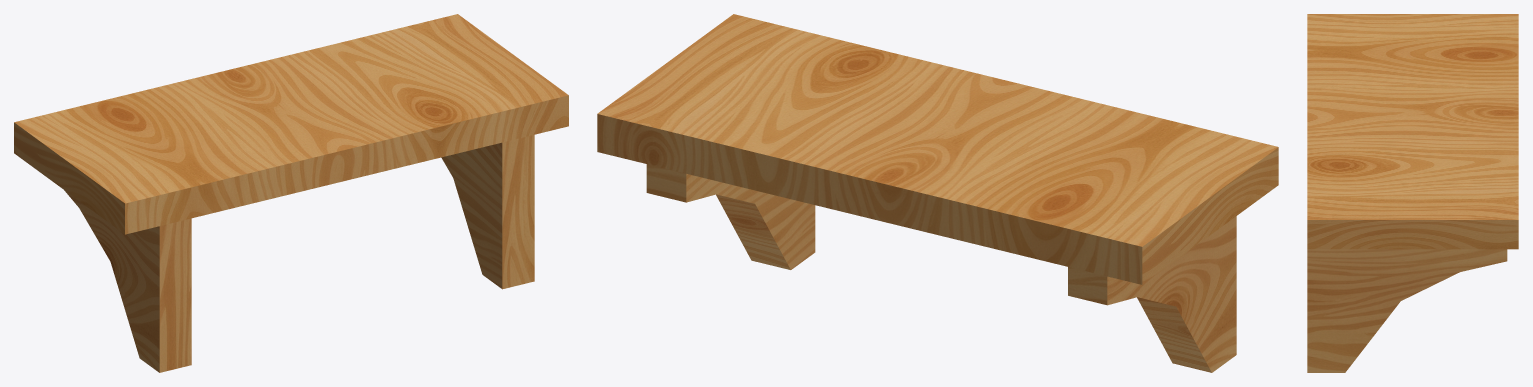
The model's file is Shelf_Hang_2.fbx.
3 renders of one model, left to right at view 1: azimuth 30°, elevation 25°; view 2: azimuth 150°, elevation 25°; view 3: azimuth 270°, elevation 25°, orthographic. The views are drawn at different scales.
Parts seen in each view (by area): view 1: Shelf_Hang_2; view 2: Shelf_Hang_2; view 3: Shelf_Hang_2.
Part boxes in pixels (x1,y1,x2,y2): Shelf_Hang_2: (14,14,568,372); Shelf_Hang_2: (597,14,1278,372); Shelf_Hang_2: (1307,14,1518,372).
Size of the model in its own units: 76.3 by 29.21 by 33.08.
